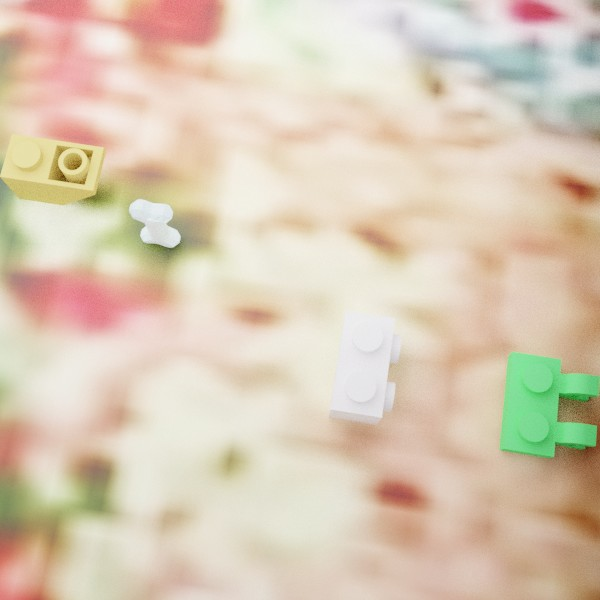lego: (499, 351, 599, 458), (328, 310, 401, 424), (0, 133, 106, 205), (129, 199, 180, 247)
